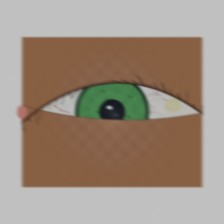pinguecula_lesion: (157, 92, 189, 118)
